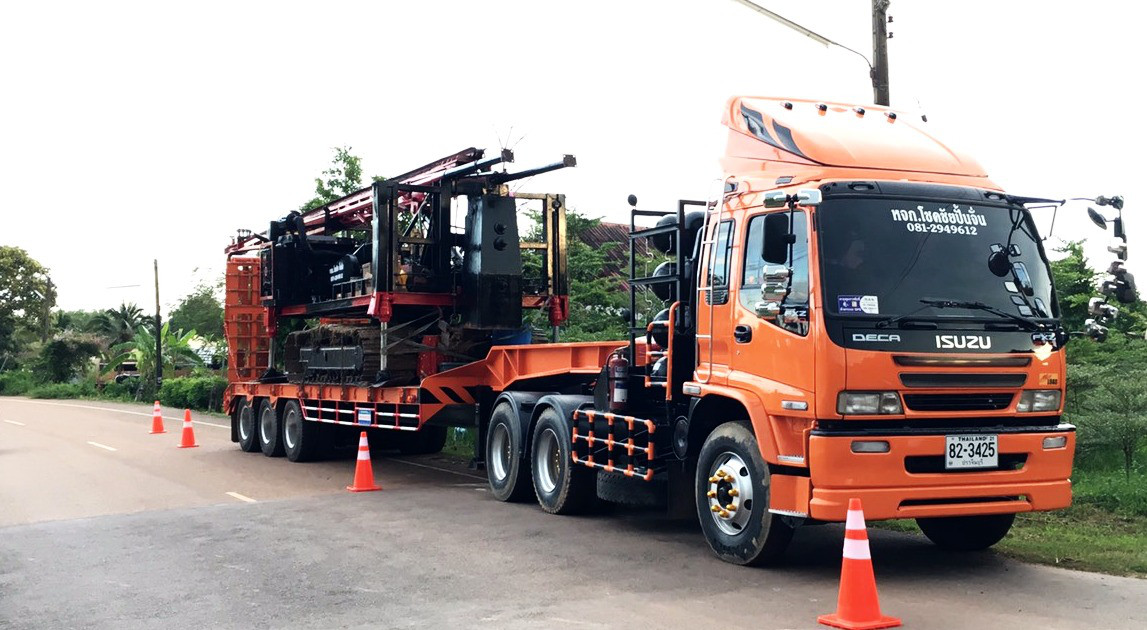truck: (219, 194, 1074, 566)
